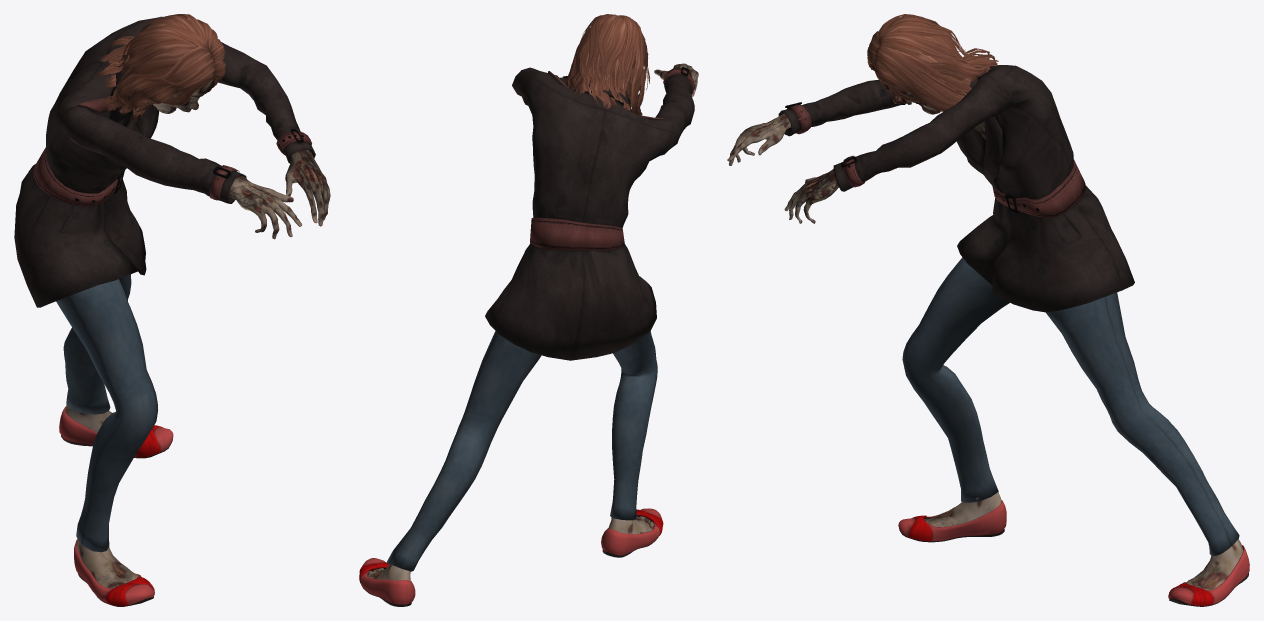
The model's file is female-zombie.obj.
3 views of the same model, side by side, from view 1: azimuth 30°, elevation 25°; view 2: azimuth 150°, elevation 25°; view 3: azimuth 270°, elevation 25° (orthographic). The views are drawn at different scales.
Visible parts, largest first — view 1: Tops_Topsmesh, Bottoms_Bottomsmesh, Hair_Hairmesh, Body_Bodymesh, Shoes_Shoesmesh; view 2: Tops_Topsmesh, Bottoms_Bottomsmesh, Hair_Hairmesh, Shoes_Shoesmesh, Body_Bodymesh; view 3: Tops_Topsmesh, Bottoms_Bottomsmesh, Hair_Hairmesh, Body_Bodymesh, Shoes_Shoesmesh.
Part boxes in pixels (x1,y1,x2,y2): Tops_Topsmesh: [14, 16, 315, 307]; Bottoms_Bottomsmesh: [56, 274, 157, 552]; Hair_Hairmesh: [93, 14, 225, 121]; Body_Bodymesh: [65, 50, 330, 588]; Shoes_Shoesmesh: [59, 406, 173, 606]; Tops_Topsmesh: [485, 67, 694, 360]; Bottoms_Bottomsmesh: [386, 331, 657, 571]; Hair_Hairmesh: [565, 14, 650, 115]; Shoes_Shoesmesh: [359, 508, 663, 606]; Body_Bodymesh: [368, 63, 698, 580]; Tops_Topsmesh: [778, 64, 1134, 312]; Bottoms_Bottomsmesh: [902, 257, 1239, 555]; Hair_Hairmesh: [867, 14, 1000, 111]; Body_Bodymesh: [727, 72, 1243, 590]; Shoes_Shoesmesh: [898, 500, 1249, 606].
Size of the model in its own units: 0.6309 by 1.49 by 1.31.
7 materials, 7 textured.
